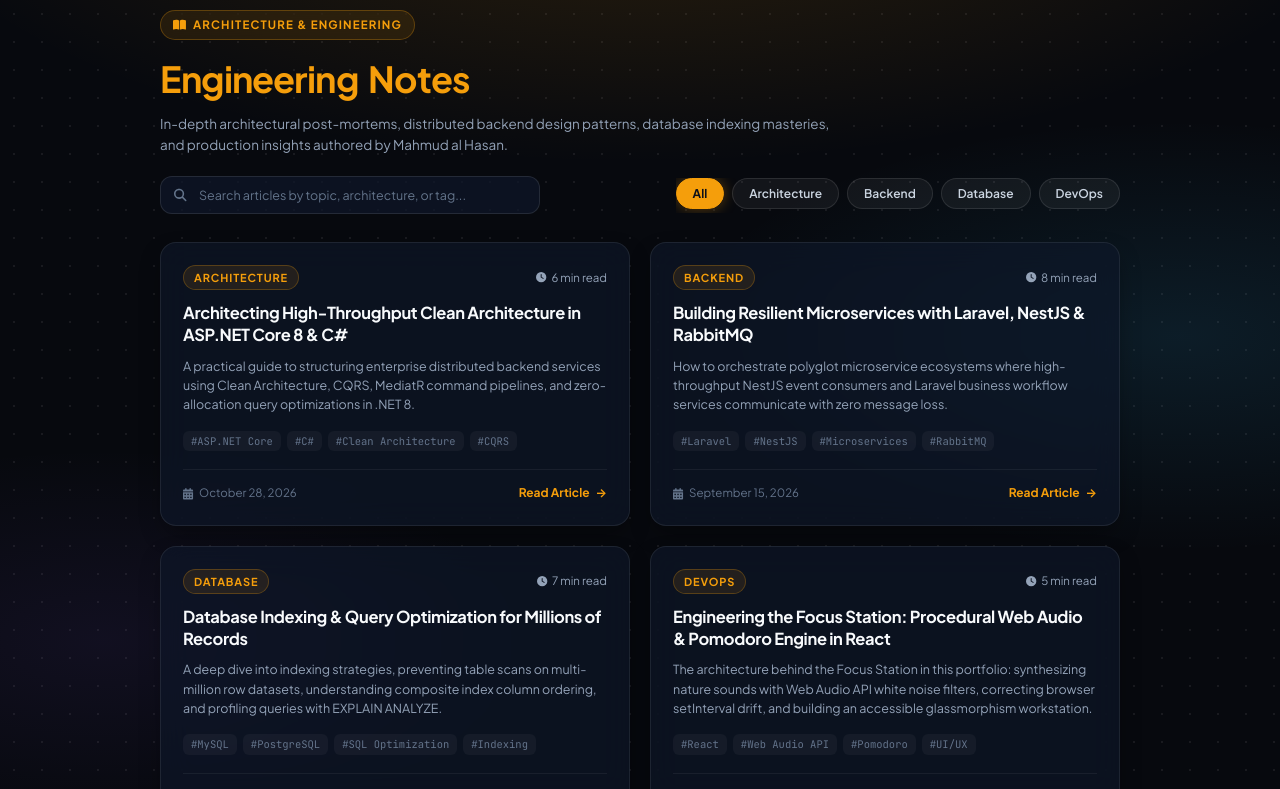
Blog Component › filters articles when category pill is selected
Step 1. Click the tab "Database" → [986, 193], box [941,178,1031,208]
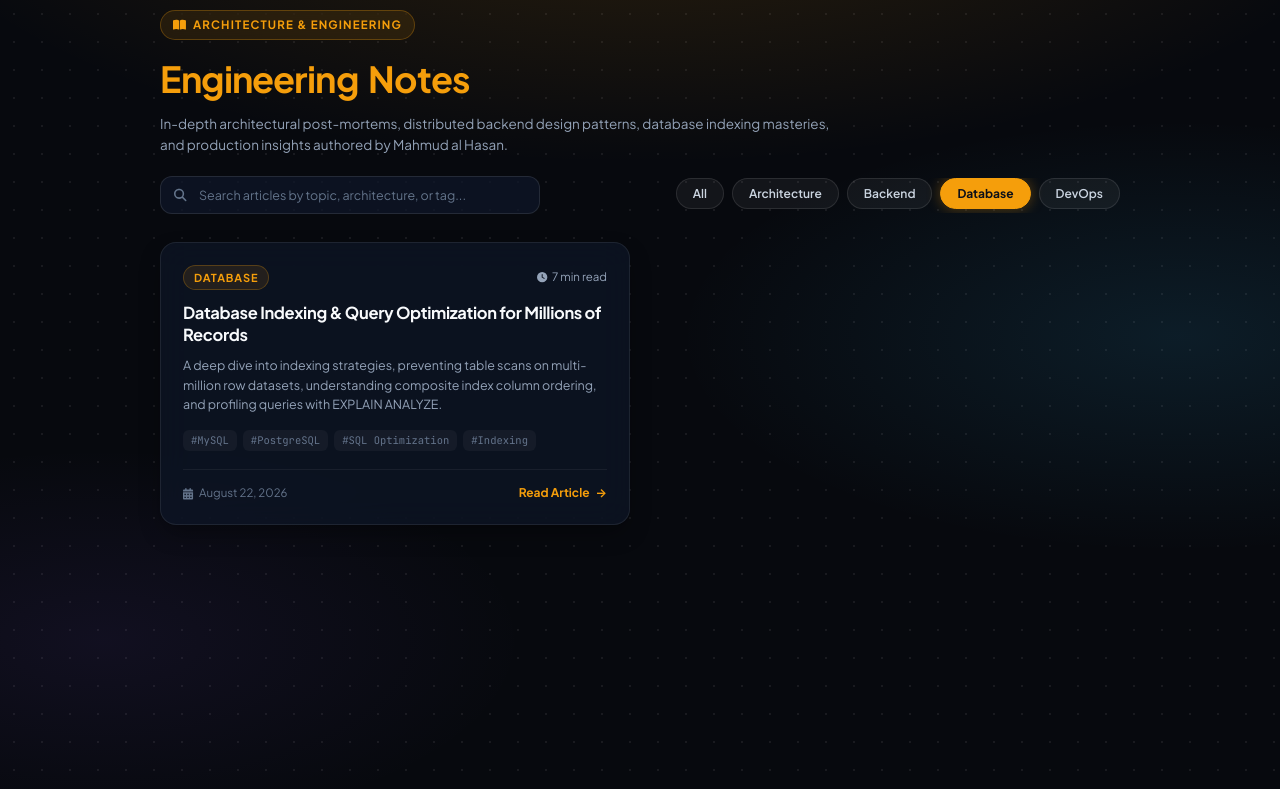
Expected: the link "Database Indexing & Query Optimization" is shown, [183,302,601,345]
Now the link "Clean Architecture in ASP.NET Core" is gone
